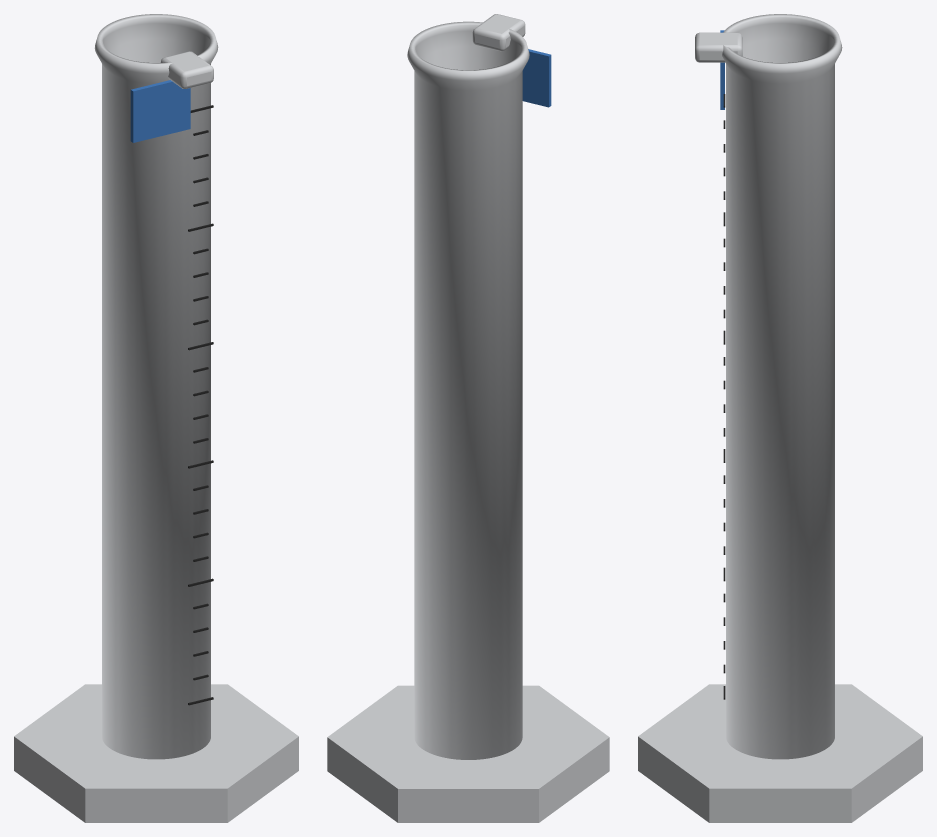
Rendered from hcl-cylinder.glb.
3 renders of one model, left to right at view 1: azimuth 30°, elevation 25°; view 2: azimuth 150°, elevation 25°; view 3: azimuth 270°, elevation 25°, orthographic.
Parts seen in each view (by area): view 1: cylinder_glass, cylinder_foot, tag, pour_spout; view 2: cylinder_glass, cylinder_foot, tag, pour_spout; view 3: cylinder_glass, cylinder_foot, pour_spout.
Part boxes in pixels (x1,y1,x2,y2): cylinder_glass: [94, 14, 218, 759]; cylinder_foot: [14, 684, 298, 822]; tag: [130, 80, 190, 142]; pour_spout: [160, 51, 213, 88]; cylinder_glass: [407, 21, 529, 759]; cylinder_foot: [327, 685, 609, 822]; tag: [522, 49, 551, 107]; pour_spout: [472, 14, 525, 51]; cylinder_glass: [722, 14, 842, 759]; cylinder_foot: [638, 684, 922, 822]; pour_spout: [695, 32, 742, 62].
Size of the model in its own units: 0.052 by 0.17 by 0.06.
